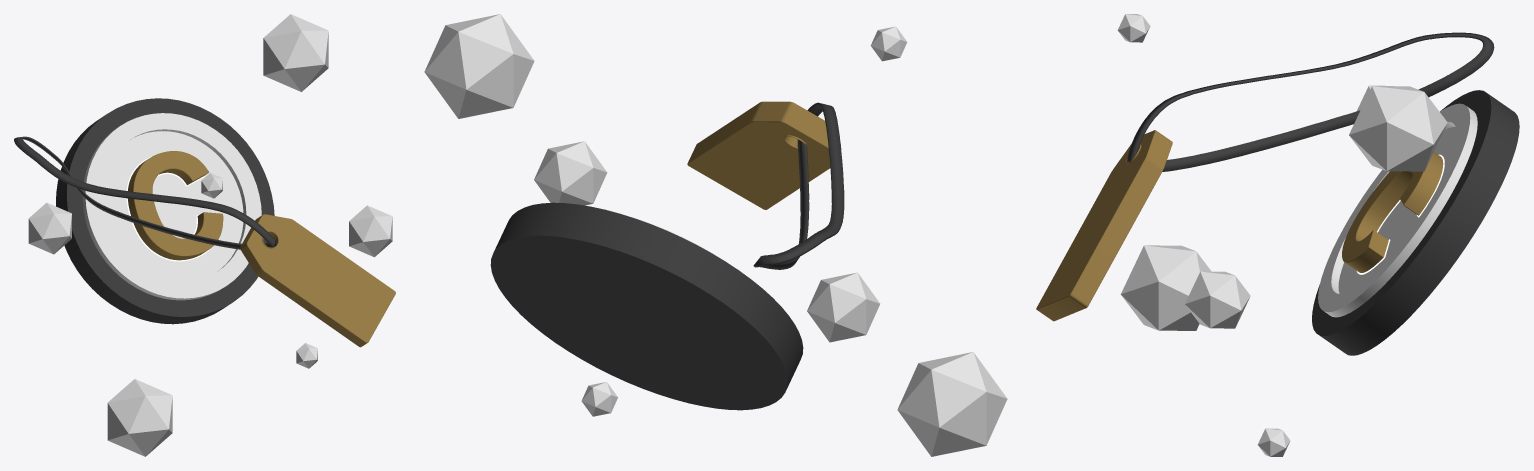
The model's file is modelDraco2_2.gltf.
3 views of the same model, side by side, from view 1: azimuth 30°, elevation 25°; view 2: azimuth 150°, elevation 25°; view 3: azimuth 270°, elevation 25° (orthographic). The views are drawn at different scales.
Visible parts, largest first — view 1: Tube007, Cylinder032, Line877526542, Tube006, Text015, Hedra001.004, Hedra001.002, Line877526543, Hedra001.001, Hedra001.005, Hedra001.003, Hedra001 (+1 smaller); view 2: Tube007, Line877526542, Hedra001.002, Hedra001.004, Line877526543, Hedra001.005, Hedra001.001, Hedra001, Hedra001.003; view 3: Tube007, Line877526542, Tube006, Hedra001.004, Line877526543, Hedra001.002, Text015, Hedra001.001, Cylinder032, Hedra001, Hedra001.003.
Boxes of the visible parts, x1,y1,x2,y2 form: Tube007: (56, 98, 274, 324); Cylinder032: (101, 131, 243, 282); Line877526542: (240, 214, 395, 347); Tube006: (82, 113, 261, 300); Text015: (127, 151, 223, 260); Hedra001.004: (263, 14, 328, 91); Hedra001.002: (107, 379, 172, 456); Line877526543: (14, 136, 276, 249); Hedra001.001: (349, 205, 392, 257); Hedra001.005: (28, 202, 71, 254); Hedra001.003: (296, 343, 317, 368); Hedra001: (201, 173, 222, 198); Tube007: (490, 202, 803, 410); Line877526542: (687, 101, 830, 209); Hedra001.002: (897, 352, 1007, 456); Hedra001.004: (424, 14, 534, 118); Line877526543: (753, 102, 844, 269); Hedra001.005: (807, 272, 880, 342); Hedra001.001: (534, 141, 607, 205); Hedra001: (870, 26, 907, 61); Hedra001.003: (581, 382, 617, 416); Tube007: (1312, 90, 1519, 355); Line877526542: (1036, 130, 1172, 321); Tube006: (1318, 103, 1477, 317); Hedra001.004: (1349, 86, 1447, 171); Line877526543: (1127, 32, 1494, 171); Hedra001.002: (1120, 245, 1211, 330); Text015: (1342, 152, 1443, 272); Hedra001.001: (1185, 271, 1250, 328); Cylinder032: (1338, 126, 1456, 293); Hedra001: (1117, 14, 1150, 42); Hedra001.003: (1257, 428, 1290, 456).
Size of the model in its own units: 309 by 298 by 332.
